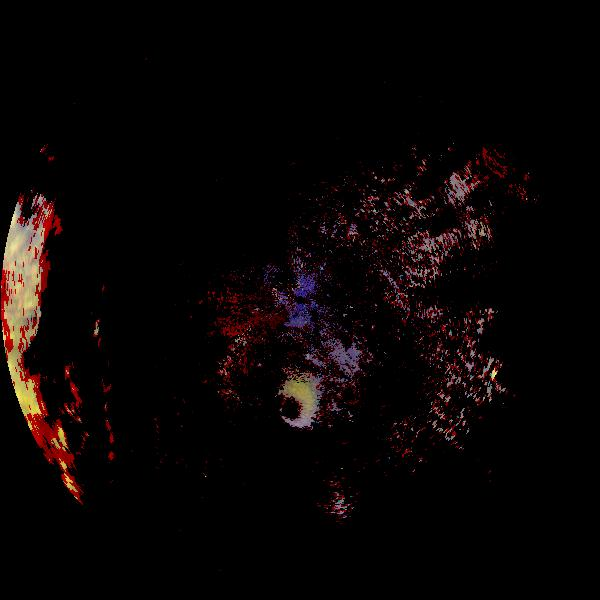roost: (269, 383, 317, 431)
